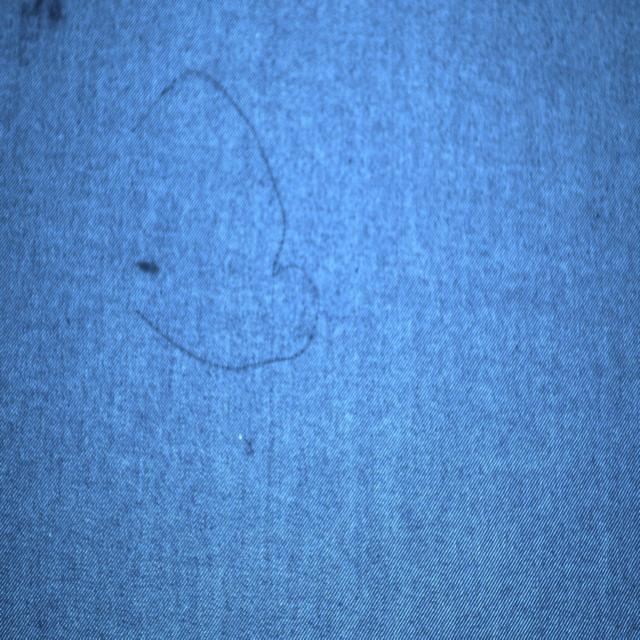defect: (115, 55, 328, 385), (132, 252, 176, 288)
